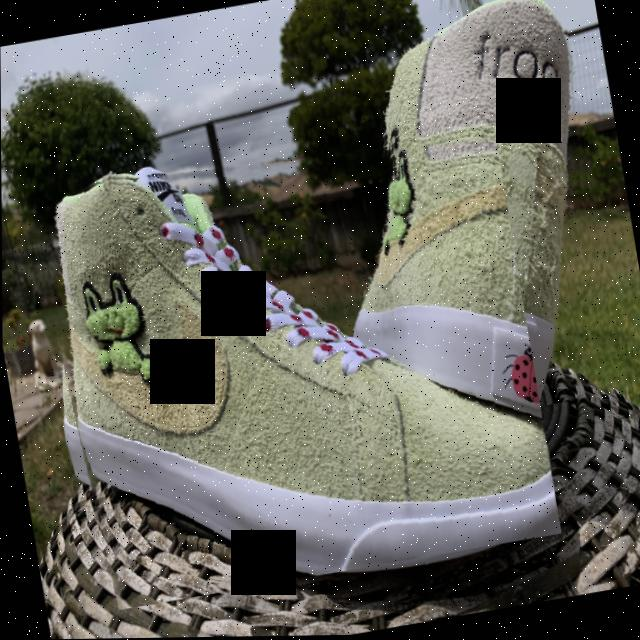shoe: (23, 111, 562, 616), (321, 0, 629, 435)
